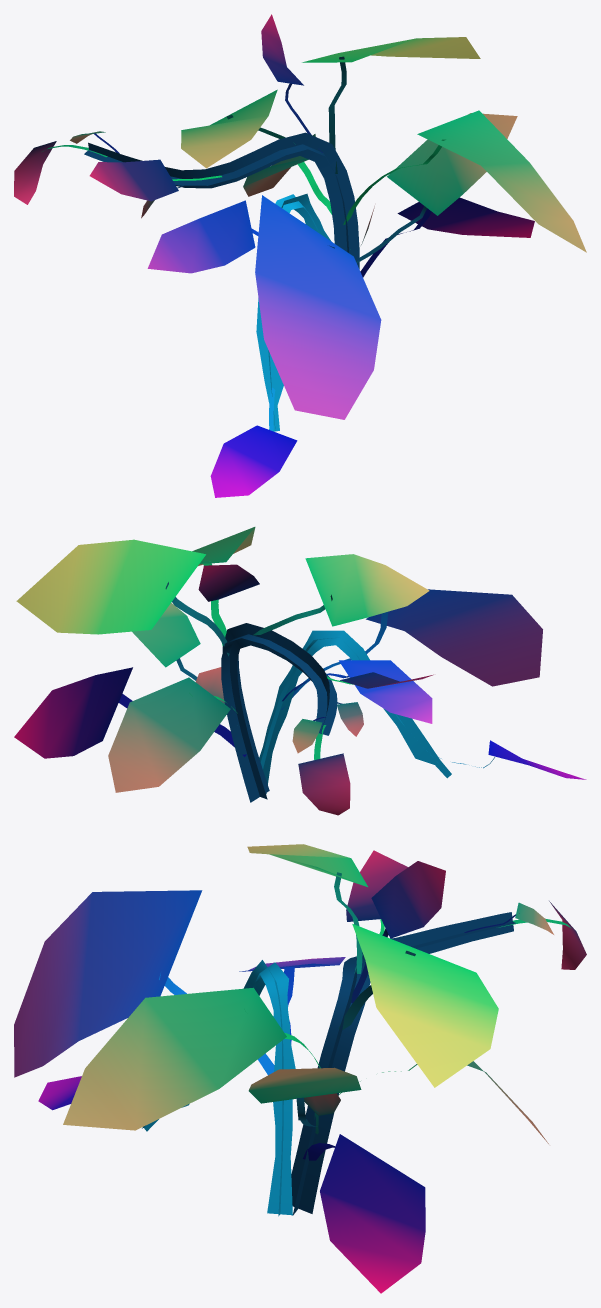
File: Money_Plant_uchmfdyia_Low_uchmfdyia_VarF_LOD1.fbx
3 renders of one model, top to bottom at view 1: azimuth 30°, elevation 25°; view 2: azimuth 150°, elevation 25°; view 3: azimuth 270°, elevation 25°, orthographic. The views are drawn at different scales.
Visible parts, largest first — view 1: _6204_VarF_LOD2; view 2: _6204_VarF_LOD2; view 3: _6204_VarF_LOD2.
Part boxes in pixels (left/top/right/bottom): _6204_VarF_LOD2: left=14, top=14, right=586, bottom=497; _6204_VarF_LOD2: left=14, top=527, right=586, bottom=815; _6204_VarF_LOD2: left=14, top=844, right=586, bottom=1293.
Bounding box in the file's own units: 18.59 × 11.57 × 17.54.
